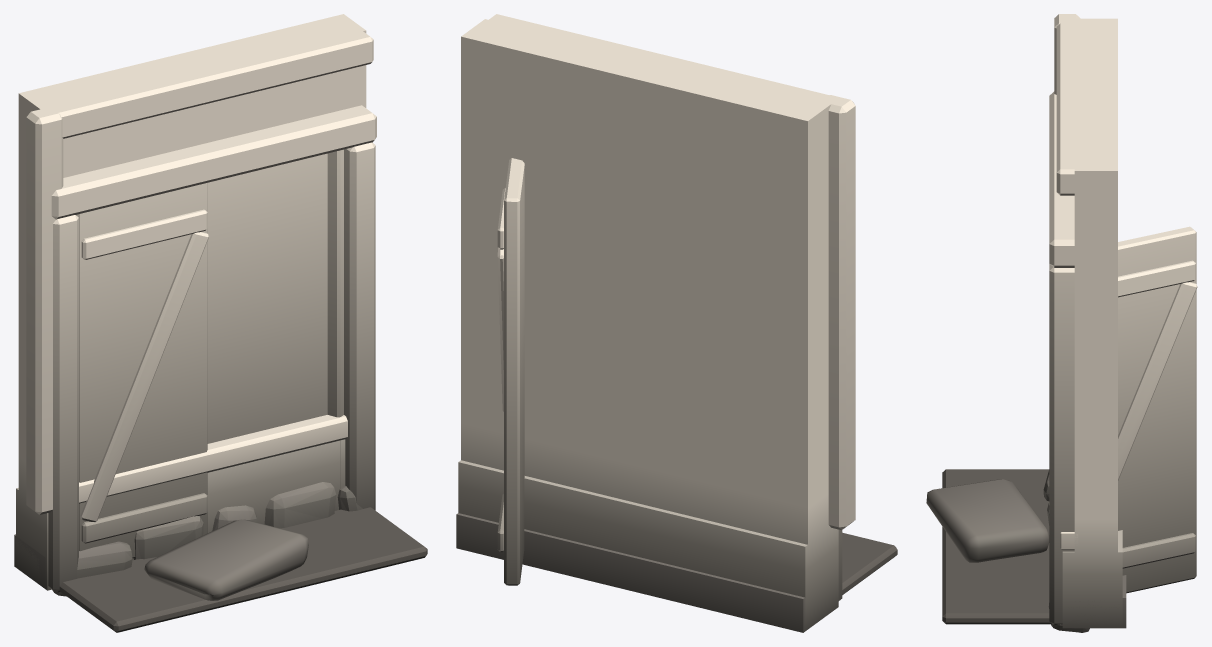
The model's file is SM_VK_Wall_Barn_Door.fbx.
3 renders of one model, left to right at view 1: azimuth 30°, elevation 25°; view 2: azimuth 150°, elevation 25°; view 3: azimuth 270°, elevation 25°, orthographic. The views are drawn at different scales.
Parts seen in each view (by area): view 1: SM_VK_Wall_Barn_Door.001; view 2: SM_VK_Wall_Barn_Door.001; view 3: SM_VK_Wall_Barn_Door.001.
Boxes of the visible parts, <box> form: SM_VK_Wall_Barn_Door.001: <box>14,14,427,632</box>; SM_VK_Wall_Barn_Door.001: <box>456,14,897,632</box>; SM_VK_Wall_Barn_Door.001: <box>926,14,1197,632</box>.
Bounding box in the file's own units: 3.13 × 4.31 × 2.26.
